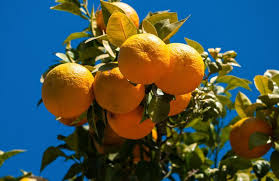orange: (33, 65, 96, 119), (94, 60, 147, 117), (119, 29, 172, 84), (158, 39, 207, 98), (101, 102, 156, 141)
